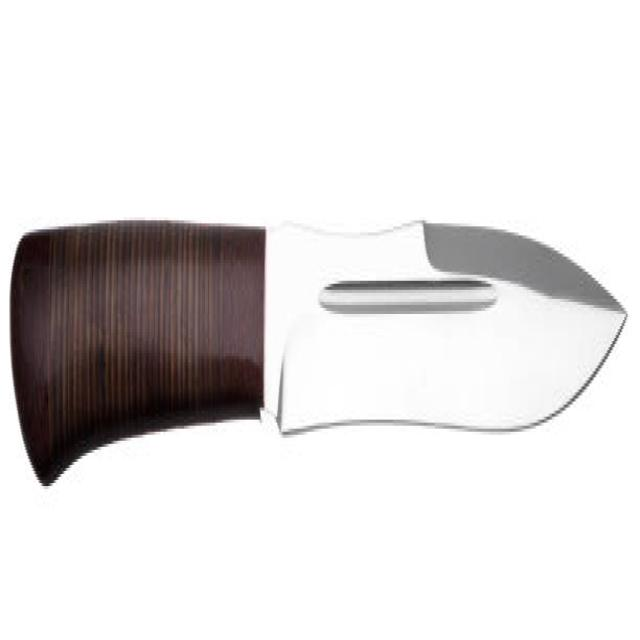knife: (11, 151, 634, 489)
